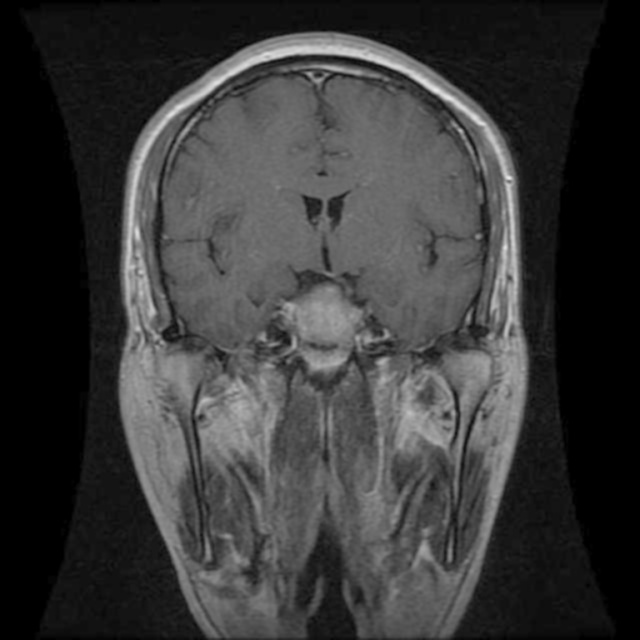no tumor: (278, 286, 380, 369)
